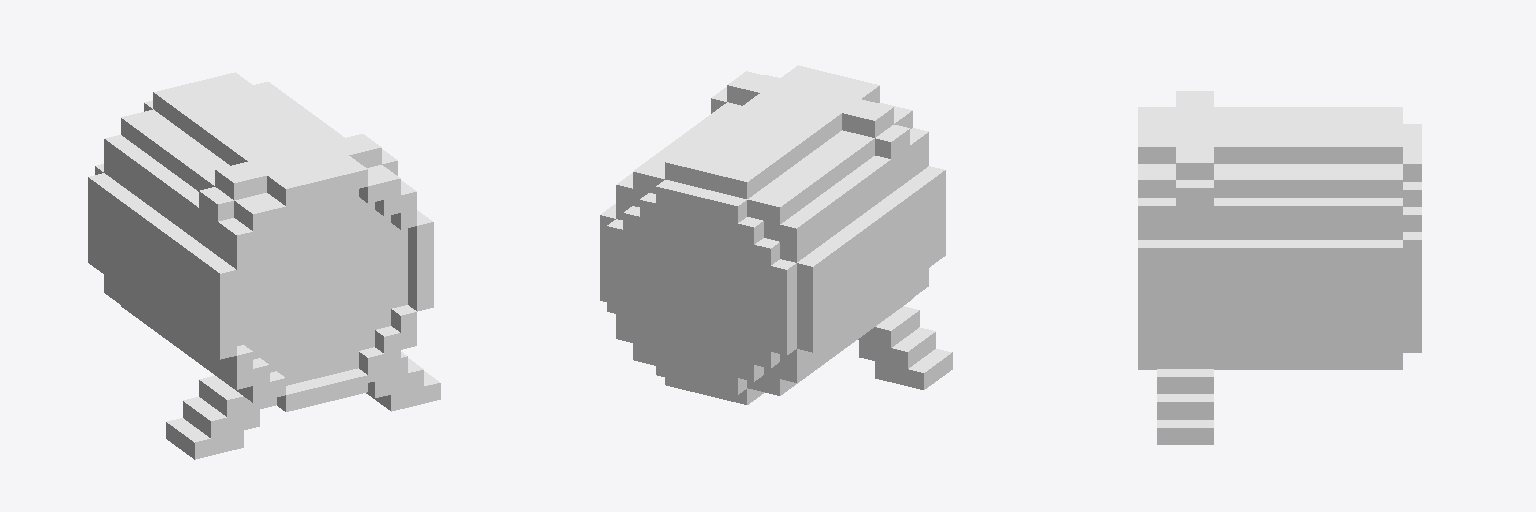
Rendered from deskclock_base.obj.
The picture shows the model from 3 angles: view 1: azimuth 30°, elevation 25°; view 2: azimuth 150°, elevation 25°; view 3: azimuth 270°, elevation 25°; orthographic projection.
Size of the model in its own units: 15 by 15 by 15.